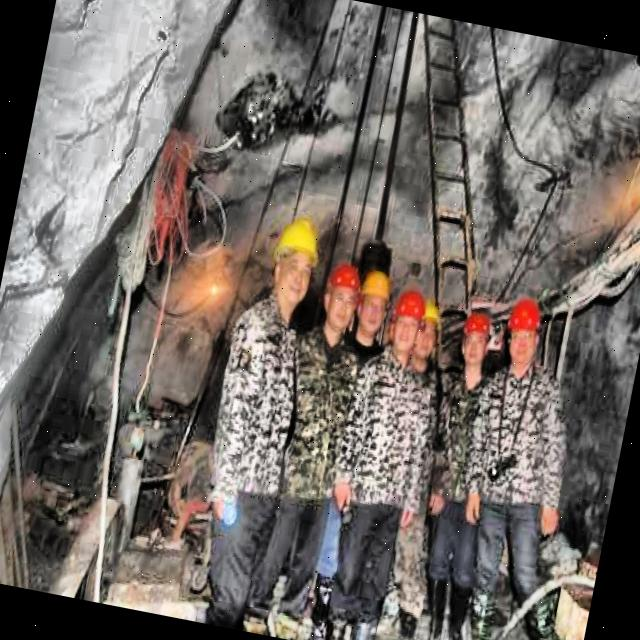helmet: (262, 210, 331, 320), (348, 257, 401, 343), (496, 296, 548, 372), (452, 304, 500, 377), (318, 260, 364, 336), (388, 284, 434, 356), (409, 298, 444, 368)
